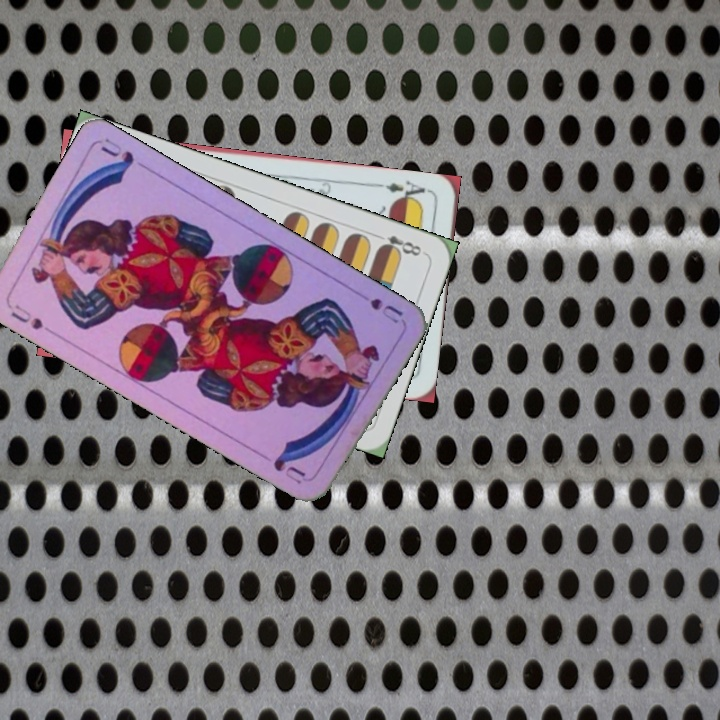E8: (370, 229, 424, 259)
EA: (374, 177, 433, 206)
SU: (350, 286, 406, 327), (7, 300, 46, 333)
